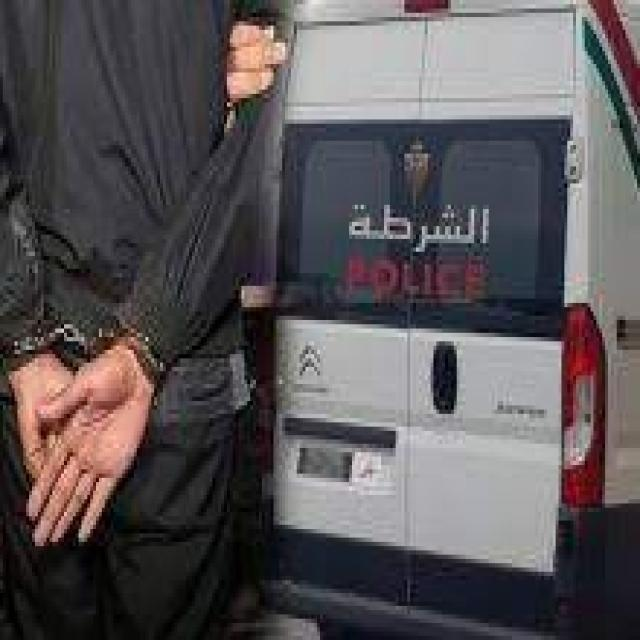police: (273, 4, 636, 619)
